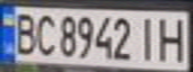2: (112, 14, 136, 61)
4: (93, 12, 115, 61)
8: (54, 11, 78, 58)
9: (75, 12, 96, 59)
B: (9, 9, 39, 56)
C: (30, 11, 57, 57)
H: (154, 14, 193, 62)
I: (133, 14, 163, 62)
